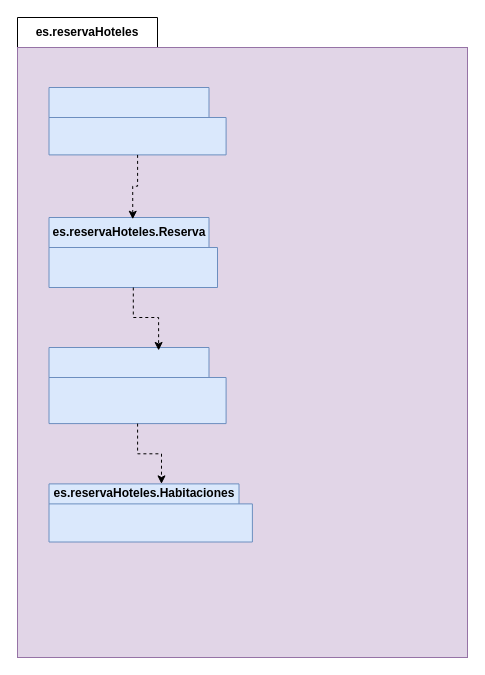
The diagram is 485 pixels wide and 675 high, and some of its shapes have lost their labels. The shapes that lost their labels are listed below. From the top down, each one's box as (x1, y1, x2, y2) in pixels, then its label:
(48, 86, 226, 155): es.reservaHoteles.clientes
(48, 346, 226, 424): es.reservaHoteles.Pagos
